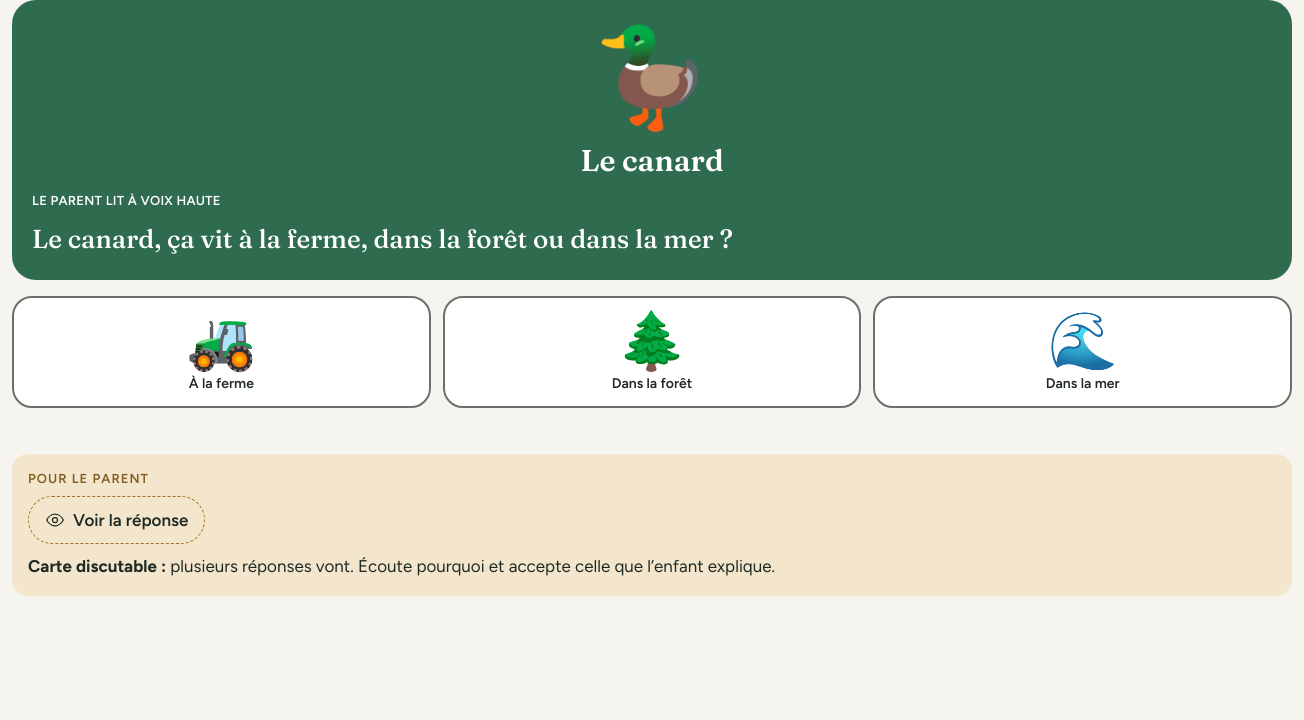
Test: une manche › carte discutable : signalée au parent, chaque famille acceptée en montrant
The width and height of the screenshot is (1304, 720).
expect the element "Pour le parent" shows "Carte discutable": met, box [28,556,166,576]
# Un choix qui ne va pas ne fait rien.
Click the button "🌊 Dans la mer" at (1083,352), box [873,296,1292,408]
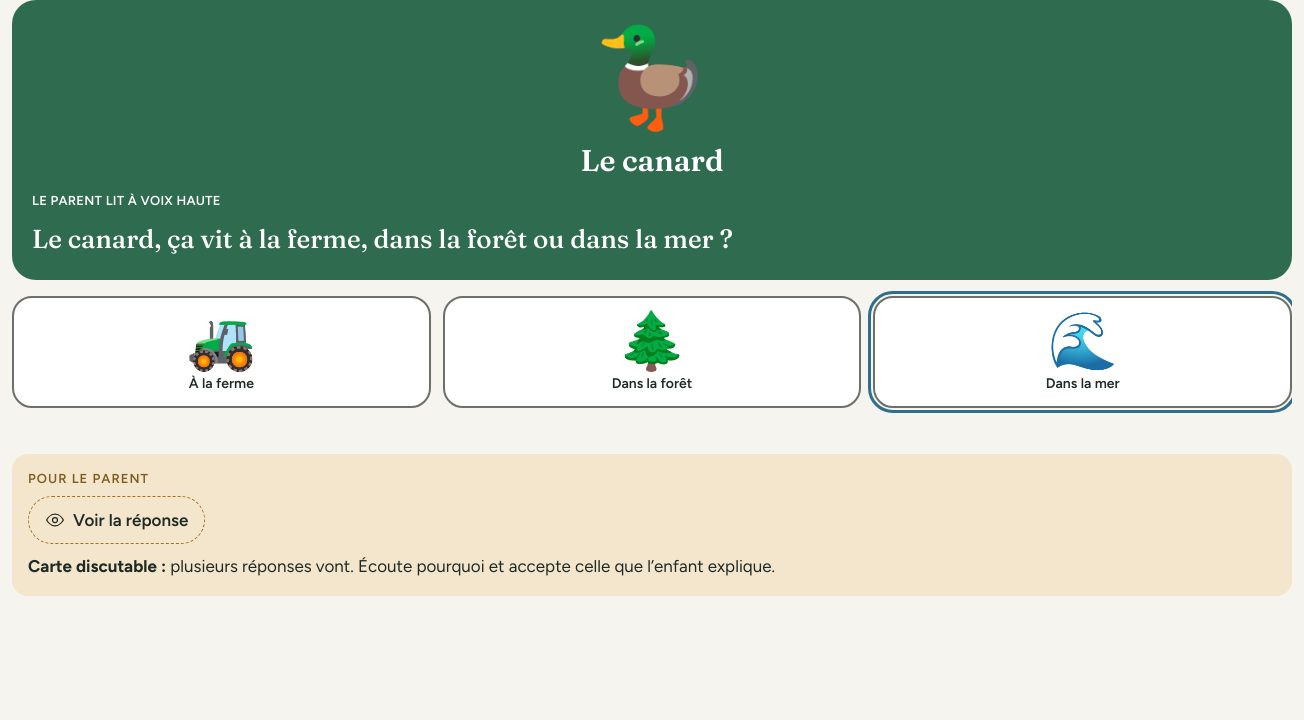
Click the button "🌲 Dans la forêt" at (652,352), box [443,296,861,408]
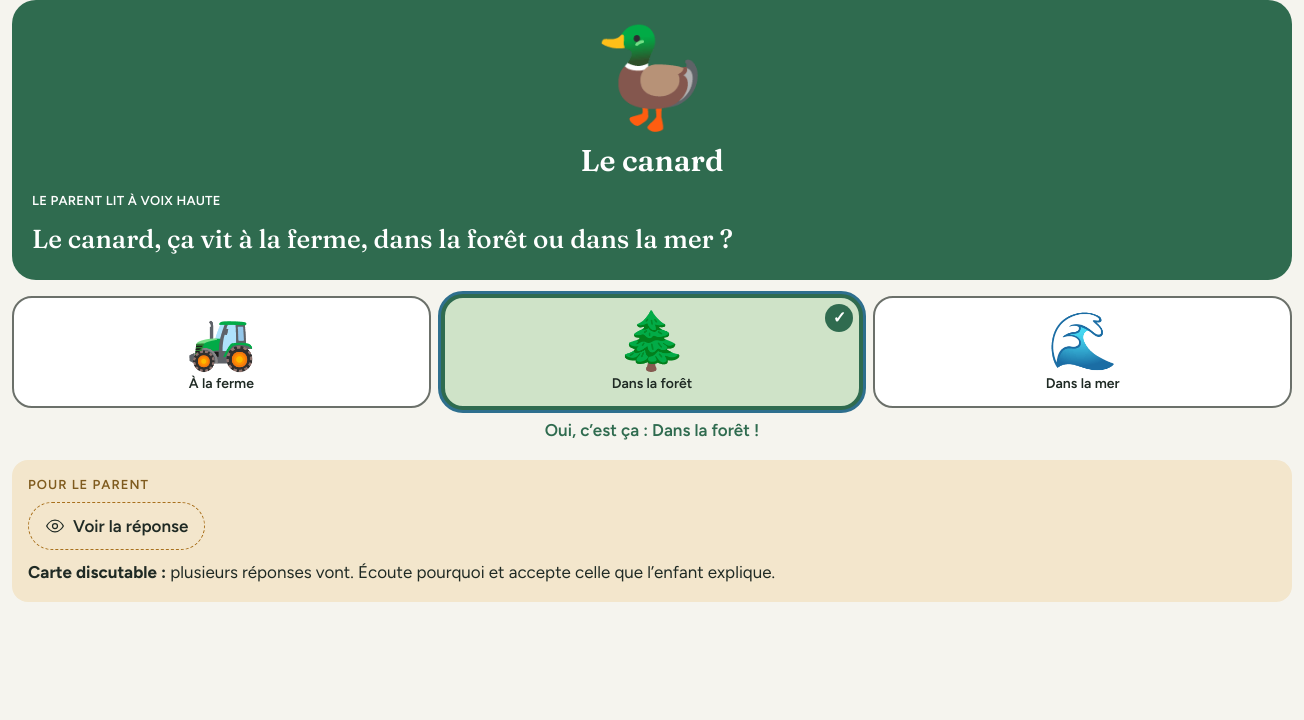
expect the message reads "Oui, c’est ça : Dans la forêt !": met, box [545,420,759,440]
Click the button "🚜 À la ferme" at (221,352), box [12,296,431,408]
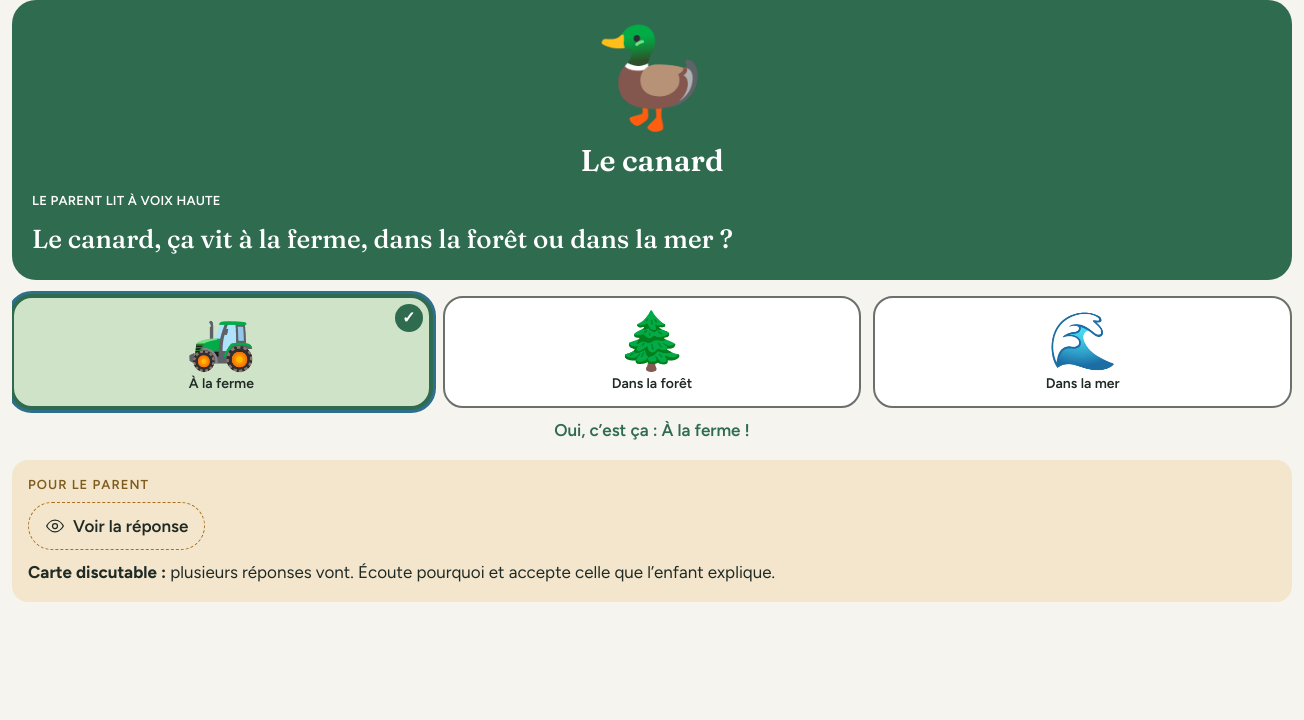
expect the message reads "Oui, c’est ça : À la ferme !": met, box [554,420,750,440]
Click the button "Voir la réponse" at (117,526), box [28,502,205,550]
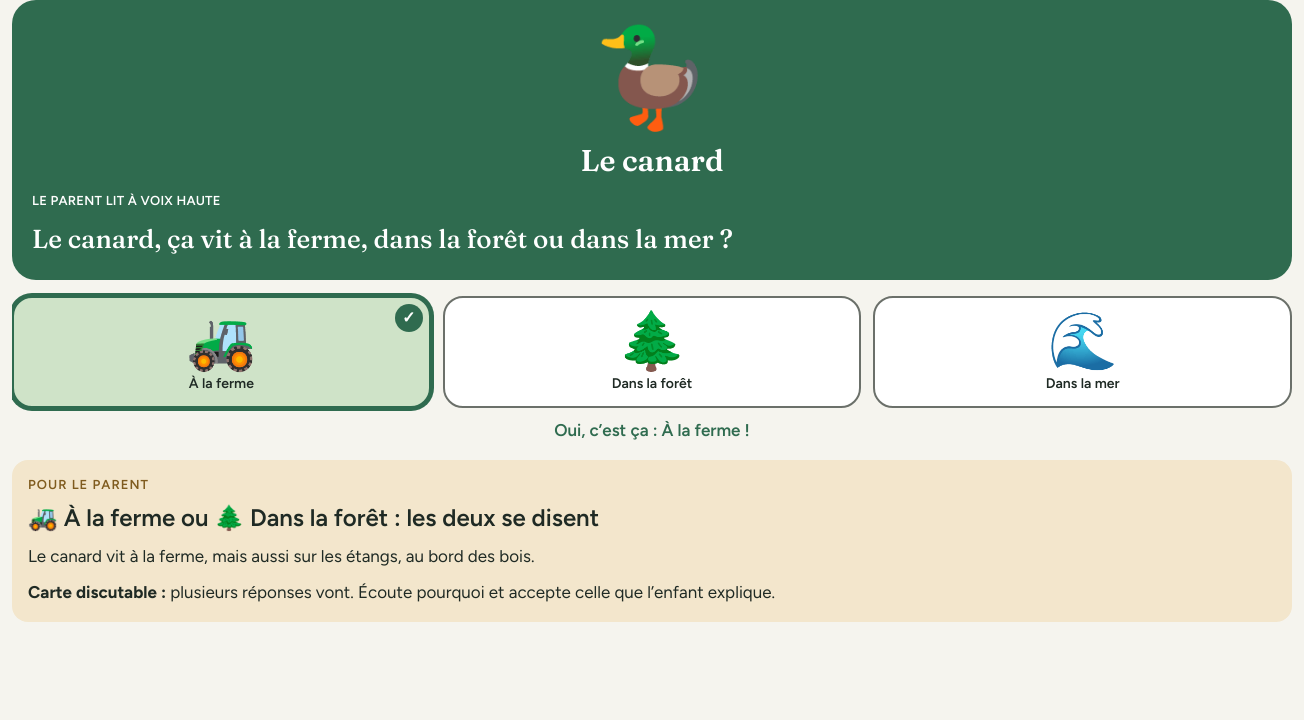
expect the element "Pour le parent" shows "🚜 À la ferme ou 🌲 Dans la forêt : les deux se disent": met, box [12,460,1292,622]
